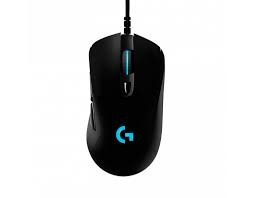mouse: (81, 27, 165, 177)
